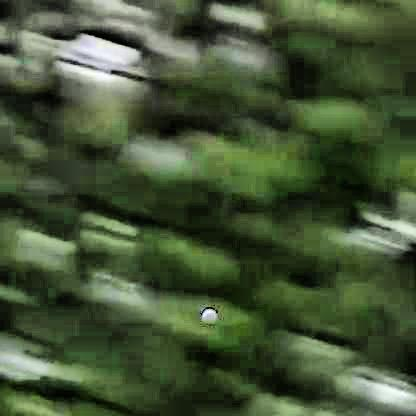golfball: (199, 303, 215, 322)
